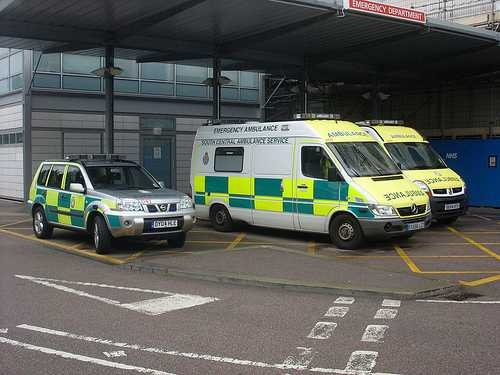Police Car: (35, 149, 193, 245)
Police Van: (198, 109, 438, 272), (369, 115, 470, 224)
